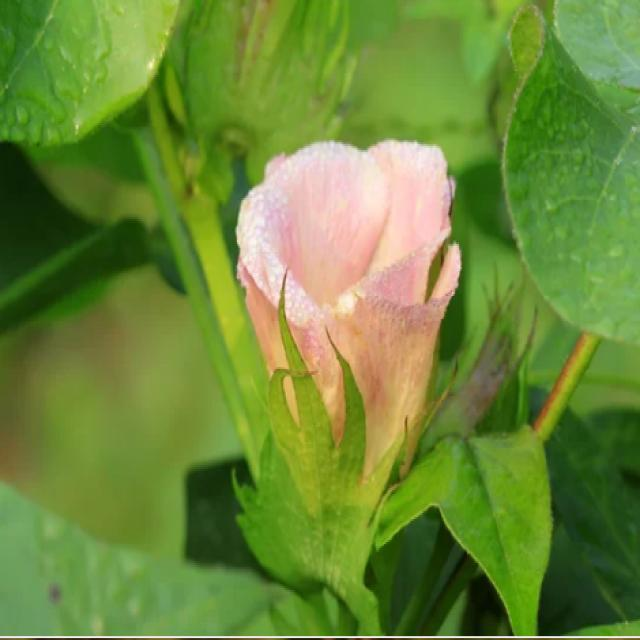Cotton Blossom: (234, 130, 462, 547)
